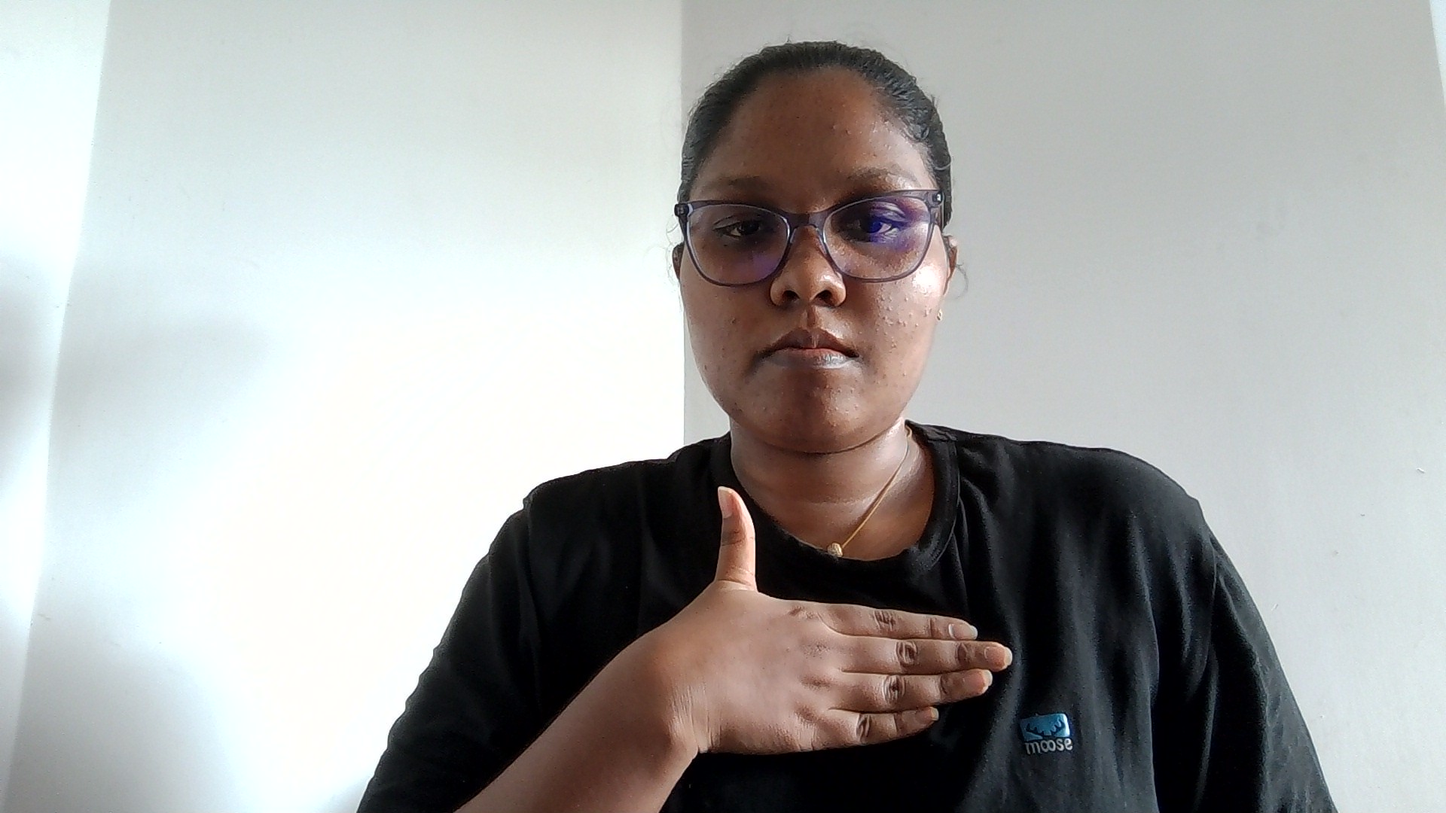Please: (495, 443, 1119, 777)
